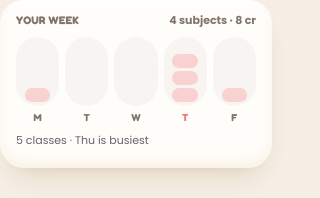
Test case: summary, then the class and room for the bead pointed at
Expected: the text "5 classes · Thu is busiest" is shown, x1=16 y1=132 x2=149 y2=148
Hover over the button named "Thu 8:00–11:05 AM, Web Engineering Lab, COMP LAB8" at (185, 94), box x1=172 y1=88 x2=198 y2=102
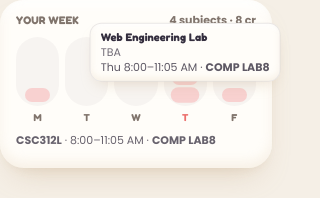
Now the text "CSC312L" is shown, box x1=16 y1=132 x2=62 y2=148
Now the text "COMP LAB8" is shown, box x1=152 y1=132 x2=216 y2=148
